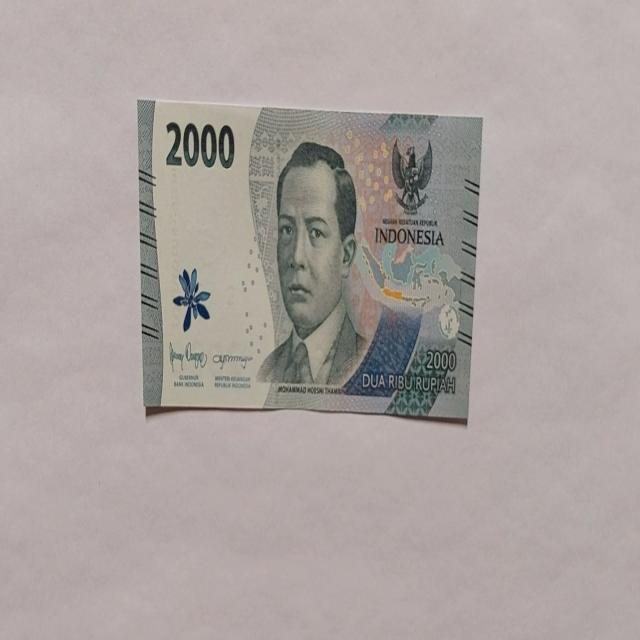dua ribu rupiah: (137, 98, 482, 420), (256, 140, 370, 392)
